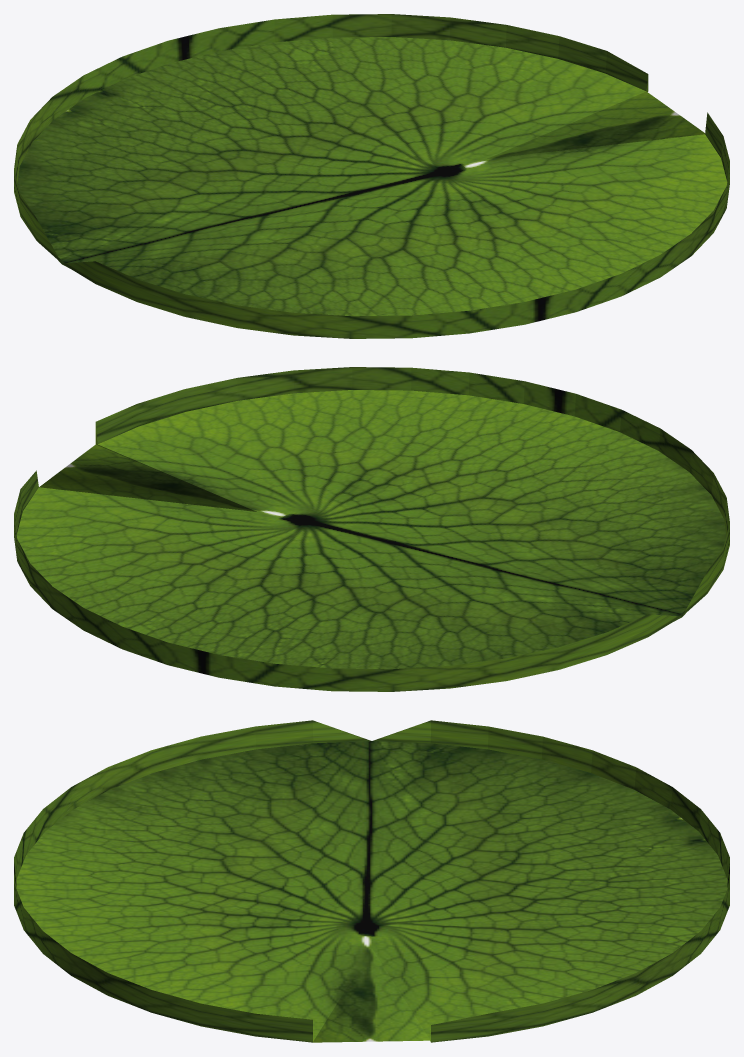
The model's file is lillypad.fbx.
The picture shows the model from 3 angles, top to bottom: view 1: azimuth 30°, elevation 25°; view 2: azimuth 150°, elevation 25°; view 3: azimuth 270°, elevation 25°; orthographic projection.
Visible parts, largest first — view 1: pCylinder1; view 2: pCylinder1; view 3: pCylinder1.
Part boxes in pixels (x1,y1,x2,y2): pCylinder1: [14, 14, 729, 338]; pCylinder1: [14, 367, 729, 691]; pCylinder1: [14, 720, 729, 1042].
Bounding box in the file's own units: 11.42 × 0.4189 × 11.46.
Materials: 1 (1 with a texture image).
